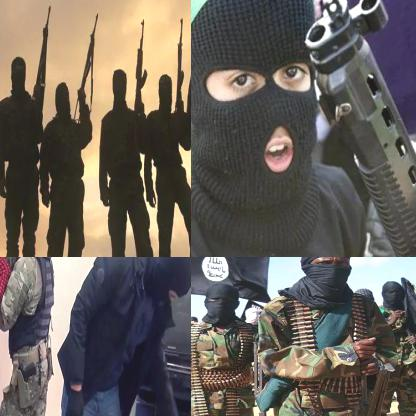rifle: (302, 0, 415, 256), (320, 98, 415, 256), (343, 346, 393, 415), (72, 10, 101, 122), (243, 339, 274, 415), (32, 4, 54, 110), (171, 13, 190, 124), (131, 18, 149, 125)
